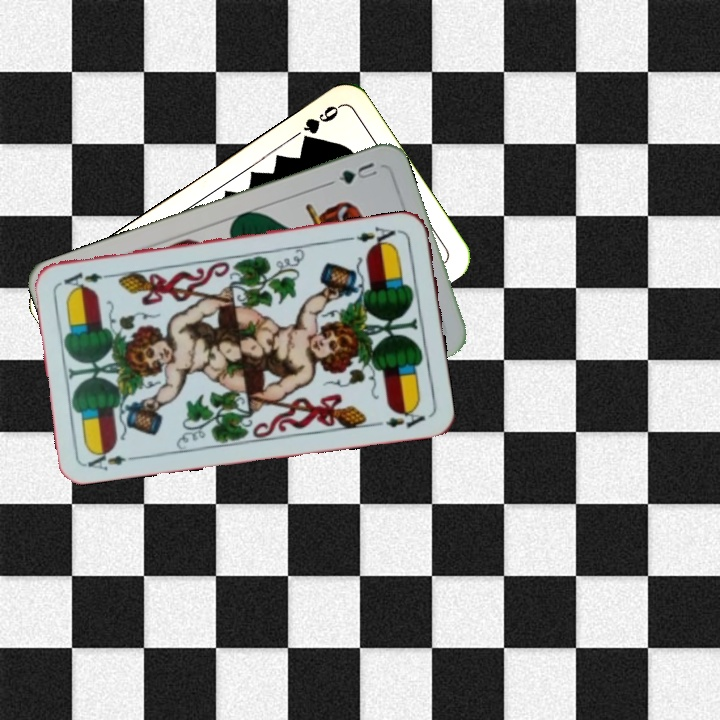EA: (83, 444, 141, 473), (345, 222, 404, 250)
G9: (297, 101, 343, 148)
GU: (334, 158, 380, 187)
